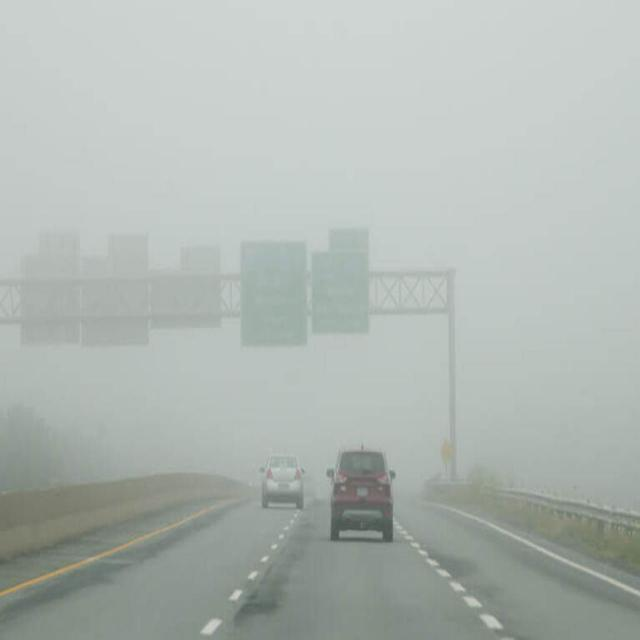car: (326, 443, 394, 543), (261, 451, 305, 510)
